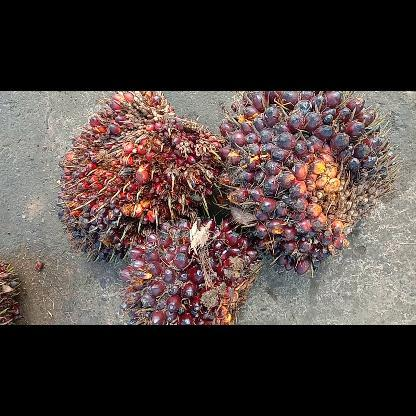Kurang masak: (218, 95, 398, 275), (118, 220, 262, 324)
TBS masak: (56, 91, 222, 263)
